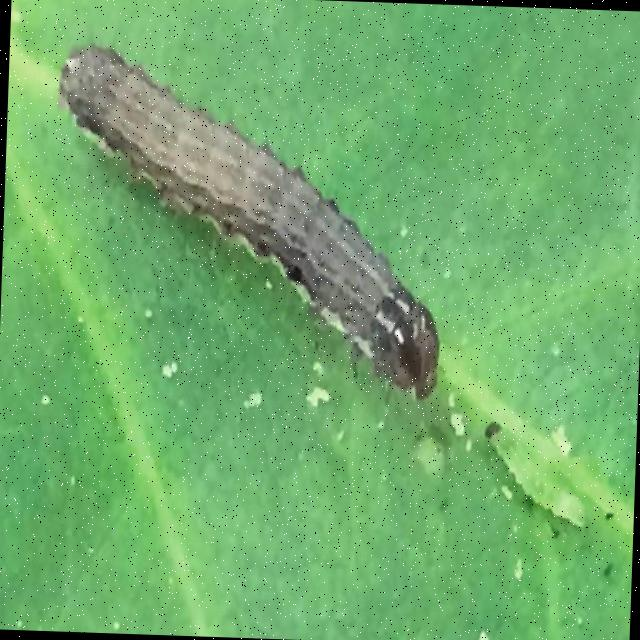worm: (49, 40, 454, 403)
